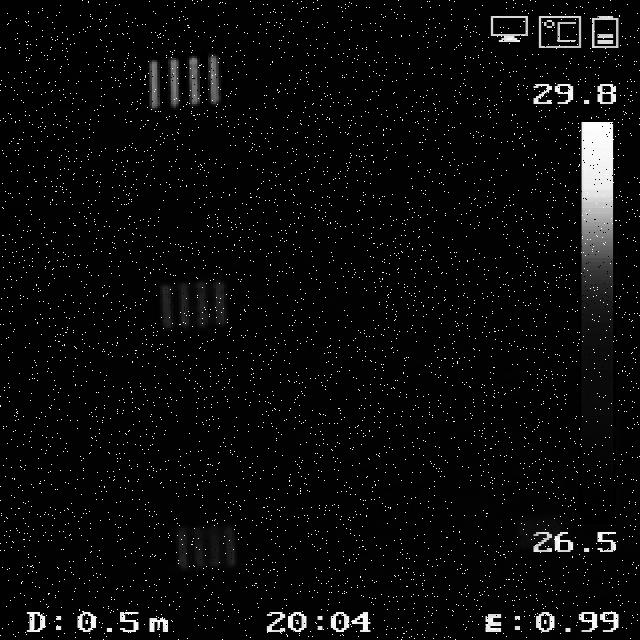Distinguishable 4-bar target: (141, 55, 223, 110), (156, 279, 227, 331), (171, 522, 240, 571)
Indistinguishable 4-bar target: (519, 514, 565, 548)
